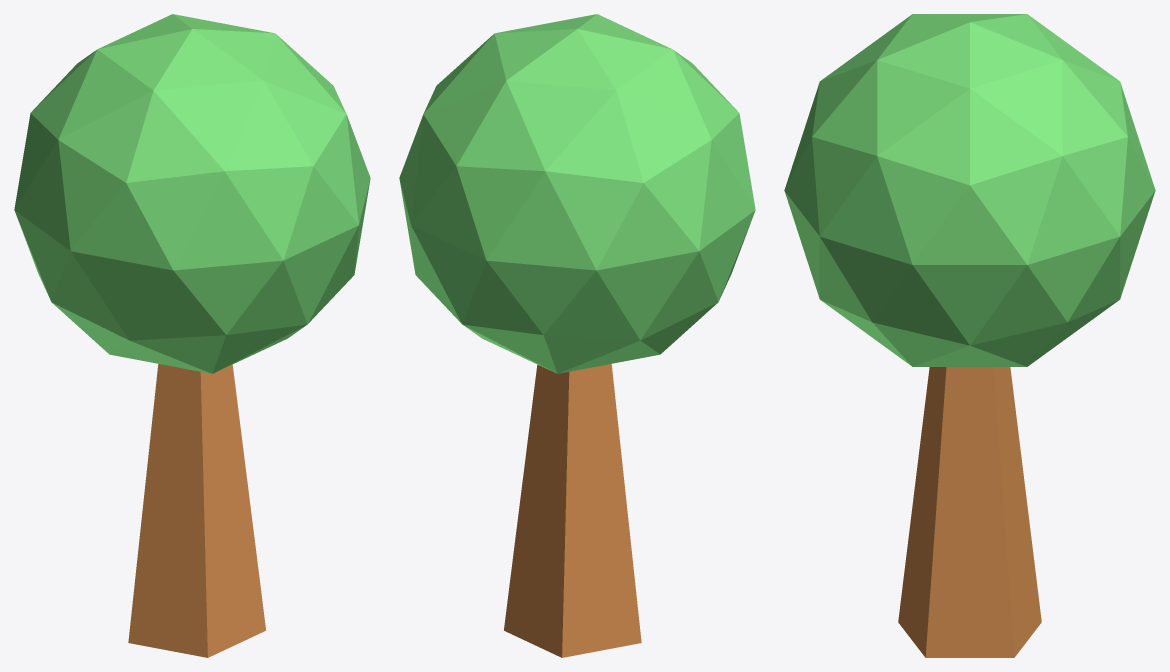
Rendered from Arbol1.fbx.
3 views of the same model, side by side, from view 1: azimuth 30°, elevation 25°; view 2: azimuth 150°, elevation 25°; view 3: azimuth 270°, elevation 25° (orthographic).
Visible parts, largest first — view 1: Arbol; view 2: Arbol; view 3: Arbol.
Part boxes in pixels (left/top/right/bottom): Arbol: left=14, top=14, right=370, bottom=657; Arbol: left=399, top=14, right=755, bottom=657; Arbol: left=784, top=14, right=1155, bottom=657.
Size of the model in its own units: 304 by 598 by 320.
